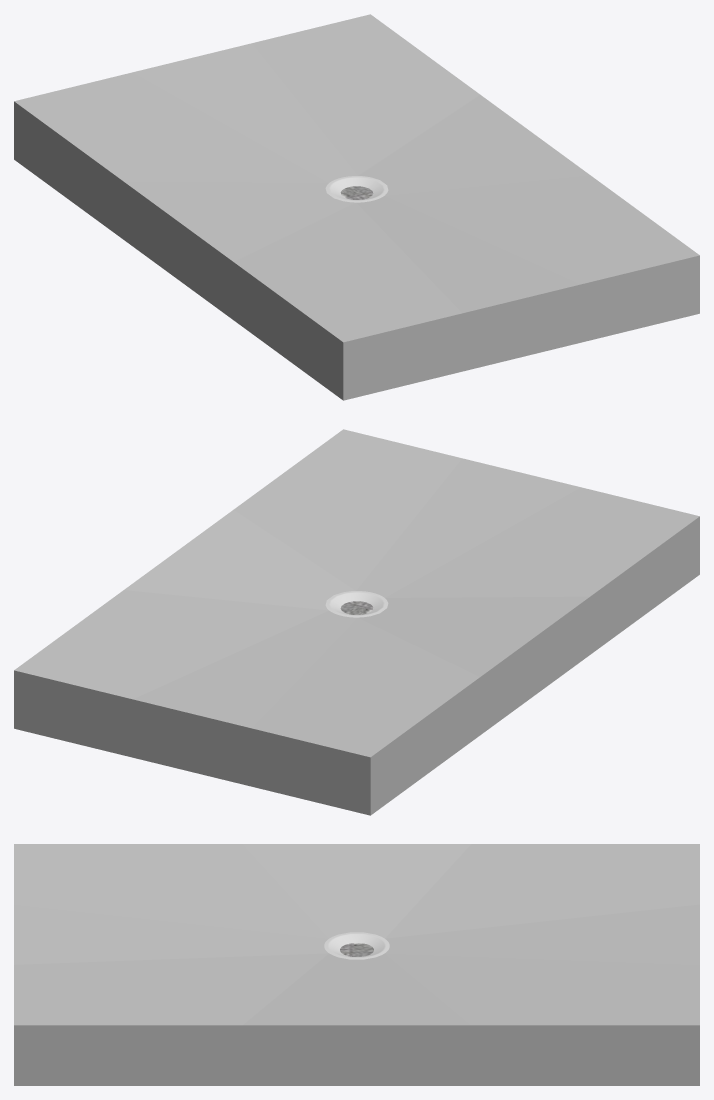
File: ShowerDrain.fbx
3 views of the same model, one above another, from view 1: azimuth 30°, elevation 25°; view 2: azimuth 150°, elevation 25°; view 3: azimuth 270°, elevation 25° (orthographic). The views are drawn at different scales.
Visible parts, largest first — view 1: Cube; view 2: Cube; view 3: Cube.
Part boxes in pixels (x1,y1,x2,y2): Cube: (14, 14, 699, 400); Cube: (14, 429, 699, 815); Cube: (14, 844, 699, 1085).
Size of the model in its own units: 200 by 31.25 by 320.
